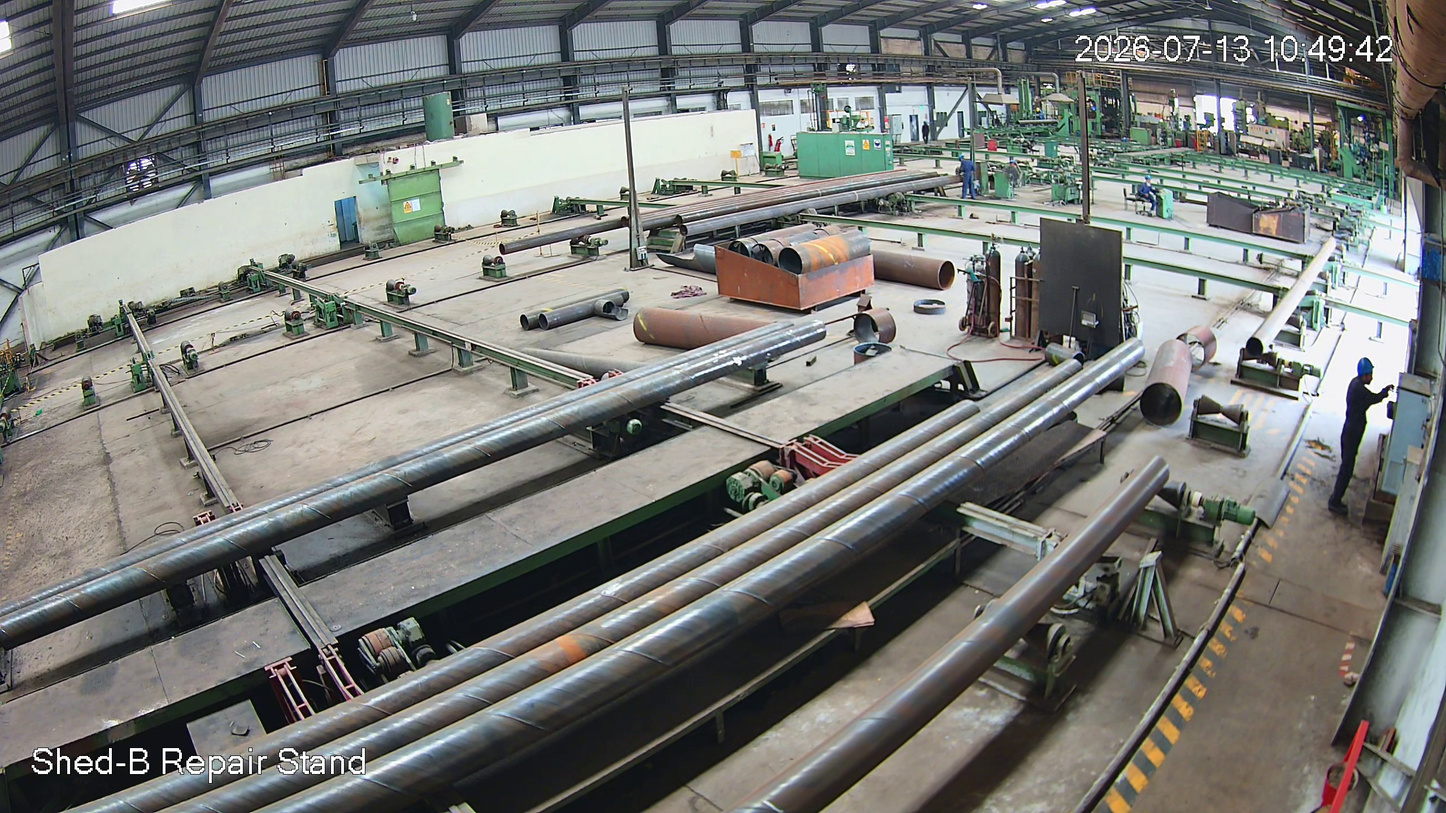Helmet: (1354, 357, 1383, 389)
Person: (1325, 362, 1380, 515)
